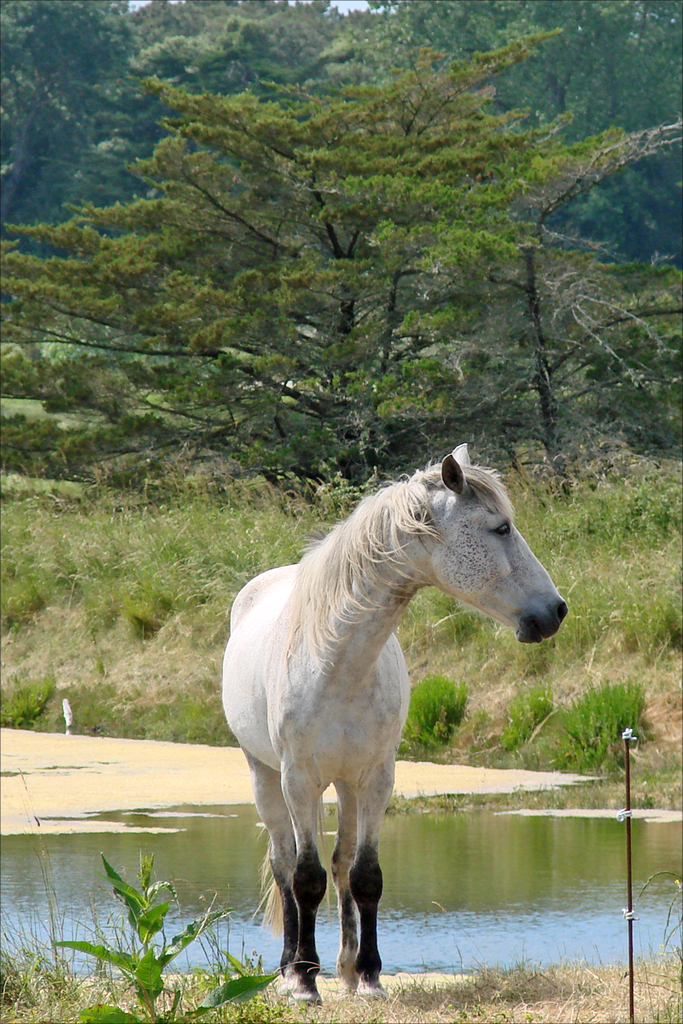horse: (217, 441, 561, 1008)
